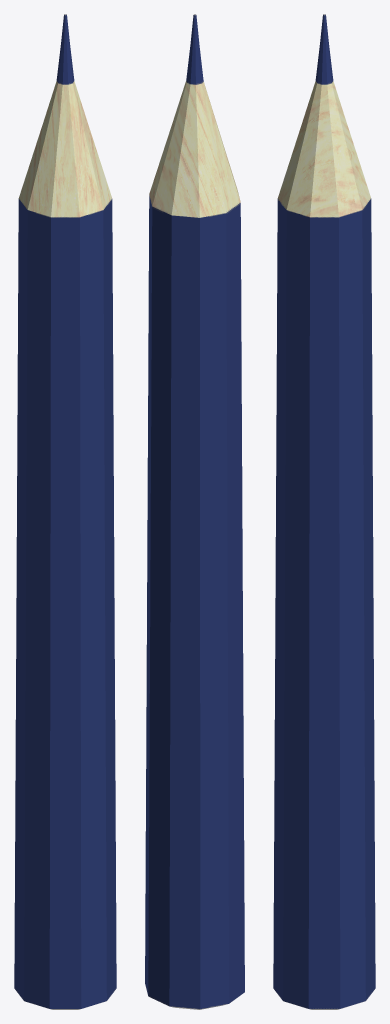
File: lapis_TEXTURIZADO_AZUL.fbx
3 renders of one model, left to right at view 1: azimuth 90°, elevation 25°; view 2: azimuth 150°, elevation 25°; view 3: azimuth 270°, elevation 25°, orthographic.
Visible parts, largest first — view 1: azul; view 2: azul; view 3: azul.
Part boxes in pixels (x1,y1,x2,y2): azul: [14, 14, 116, 1009]; azul: [145, 14, 244, 1009]; azul: [273, 14, 375, 1009].
Size of the model in its own units: 1.55 by 17.18 by 1.63.
1 material, 1 textured.
